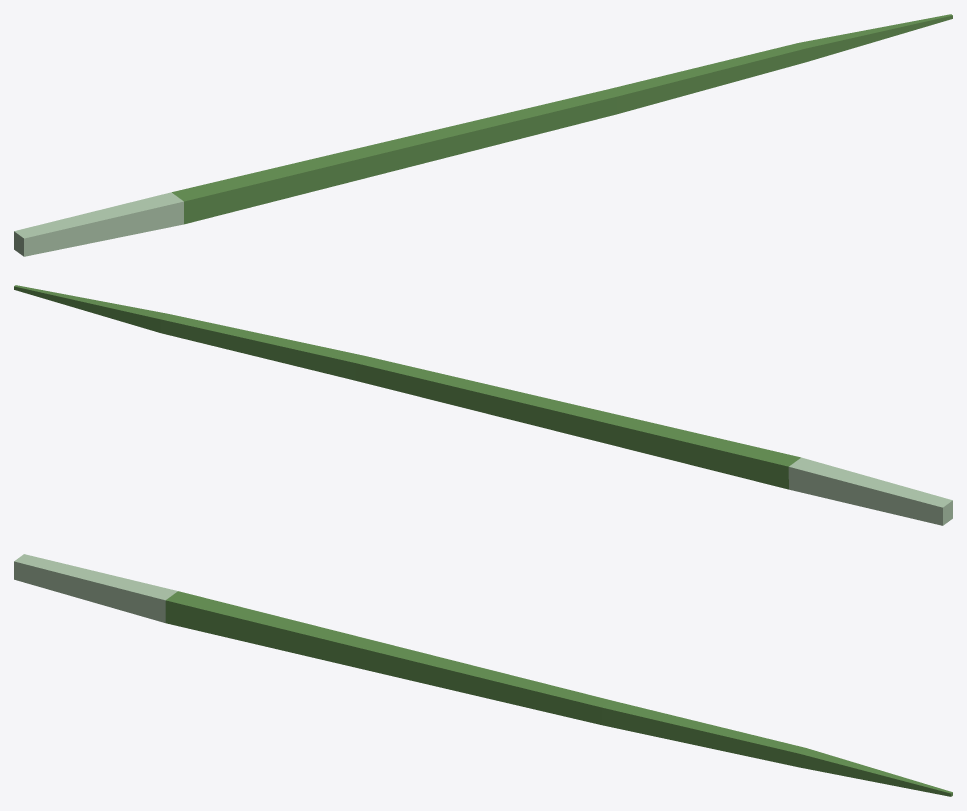
The model's file is greenOnion.fbx.
3 views of the same model, one above another, from view 1: azimuth 30°, elevation 25°; view 2: azimuth 150°, elevation 25°; view 3: azimuth 330°, elevation 25° (orthographic).
Visible parts, largest first — view 1: greenOnion; view 2: greenOnion; view 3: greenOnion.
Boxes of the visible parts, left/top/right/bottom form: greenOnion: left=14, top=14, right=952, bottom=256; greenOnion: left=14, top=285, right=952, bottom=525; greenOnion: left=14, top=554, right=952, bottom=796.
Size of the model in its own units: 16.74 by 0.3928 by 0.4379.
Materials: 1 (1 with a texture image).
